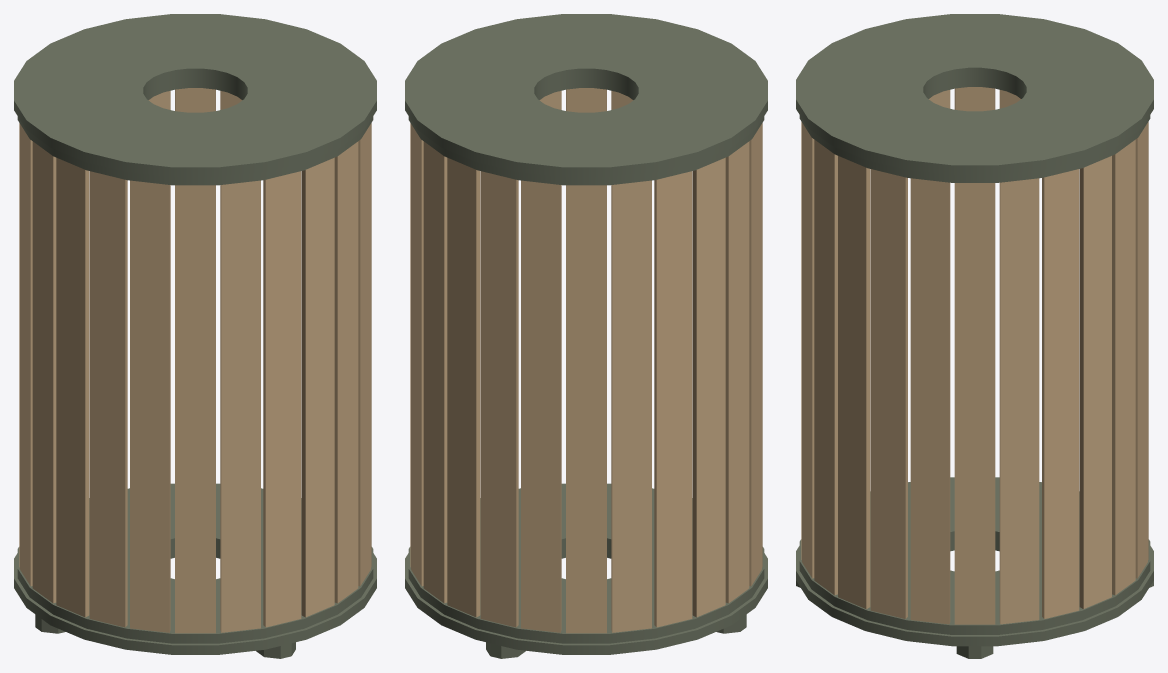
The model's file is TrashCan.fbx.
3 views of the same model, side by side, from view 1: azimuth 30°, elevation 25°; view 2: azimuth 150°, elevation 25°; view 3: azimuth 270°, elevation 25° (orthographic).
Visible parts, largest first — view 1: Group_64_1, Group_63_3, Group_63_2, Group_63_4, Group_63_1, Group_63_5, Group_63_6, Group_63_24, Group_63_7, Group_63_23, Group_64_2, Group_63_8 (+2 smaller); view 2: Group_64_1, Group_63_11, Group_63_10, Group_63_12, Group_63_9, Group_63_13, Group_63_8, Group_63_14, Group_63_7, Group_63_15, Group_64_2, Group_63_6 (+2 smaller); view 3: Group_64_1, Group_63_19, Group_63_18, Group_63_20, Group_63_17, Group_63_21, Group_63_16, Group_63_22, Group_64_2, Group_63_15, Group_63_23, Group_63_14 (+2 smaller).
Boxes of the visible parts, x1,y1,x2,y2 form: Group_64_1: [14, 14, 376, 185]; Group_63_3: [175, 185, 215, 633]; Group_63_2: [220, 180, 260, 632]; Group_63_4: [130, 180, 170, 632]; Group_63_1: [263, 171, 301, 627]; Group_63_5: [89, 171, 127, 627]; Group_63_6: [56, 157, 89, 617]; Group_63_24: [301, 157, 334, 617]; Group_63_7: [32, 141, 56, 603]; Group_63_23: [334, 141, 358, 603]; Group_64_2: [14, 483, 376, 654]; Group_63_8: [20, 124, 32, 586]; Group_64_1: [405, 14, 767, 185]; Group_63_11: [566, 185, 606, 633]; Group_63_10: [611, 180, 651, 632]; Group_63_12: [521, 180, 561, 632]; Group_63_9: [654, 171, 692, 627]; Group_63_13: [480, 171, 518, 627]; Group_63_8: [692, 157, 725, 617]; Group_63_14: [447, 157, 480, 617]; Group_63_7: [725, 141, 749, 603]; Group_63_15: [423, 141, 447, 603]; Group_64_2: [405, 483, 767, 654]; Group_63_6: [749, 124, 761, 586]; Group_64_1: [796, 14, 1153, 182]; Group_63_19: [954, 183, 995, 624]; Group_63_18: [999, 178, 1039, 624]; Group_63_20: [910, 178, 950, 624]; Group_63_17: [1042, 169, 1079, 618]; Group_63_21: [870, 169, 907, 618]; Group_63_16: [1079, 156, 1111, 609]; Group_63_22: [838, 156, 870, 609]; Group_64_2: [796, 477, 1153, 646]; Group_63_15: [1112, 139, 1135, 595]; Group_63_23: [814, 139, 837, 595]; Group_63_14: [1135, 123, 1147, 578].
Bounding box in the file's own units: 0.6422 × 0.9779 × 0.6422.
